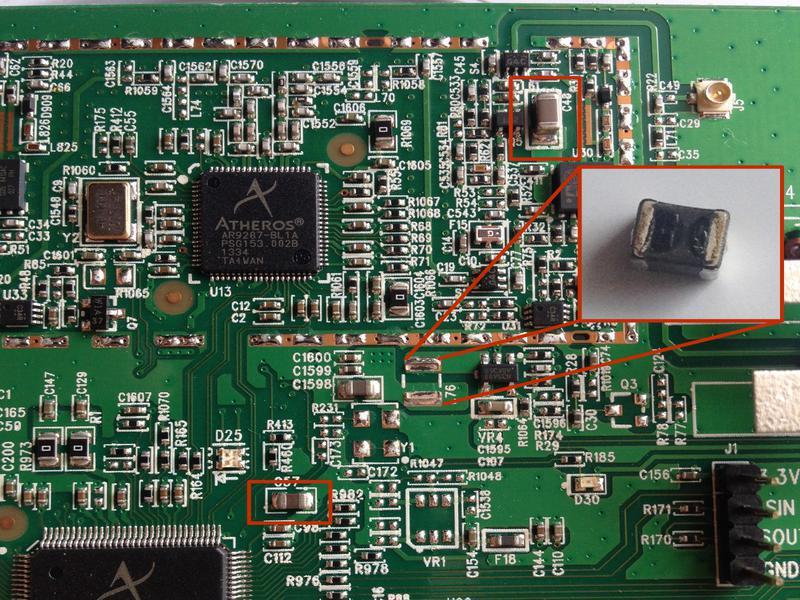SMD capacitor: (347, 220, 371, 232), (350, 241, 371, 254)
SMD resistor: (386, 209, 410, 221)
